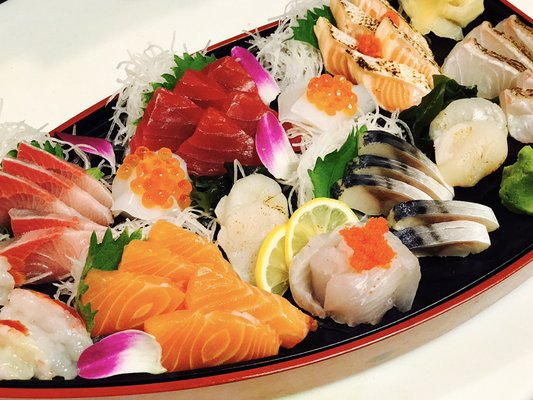pizza: (77, 218, 314, 372)
